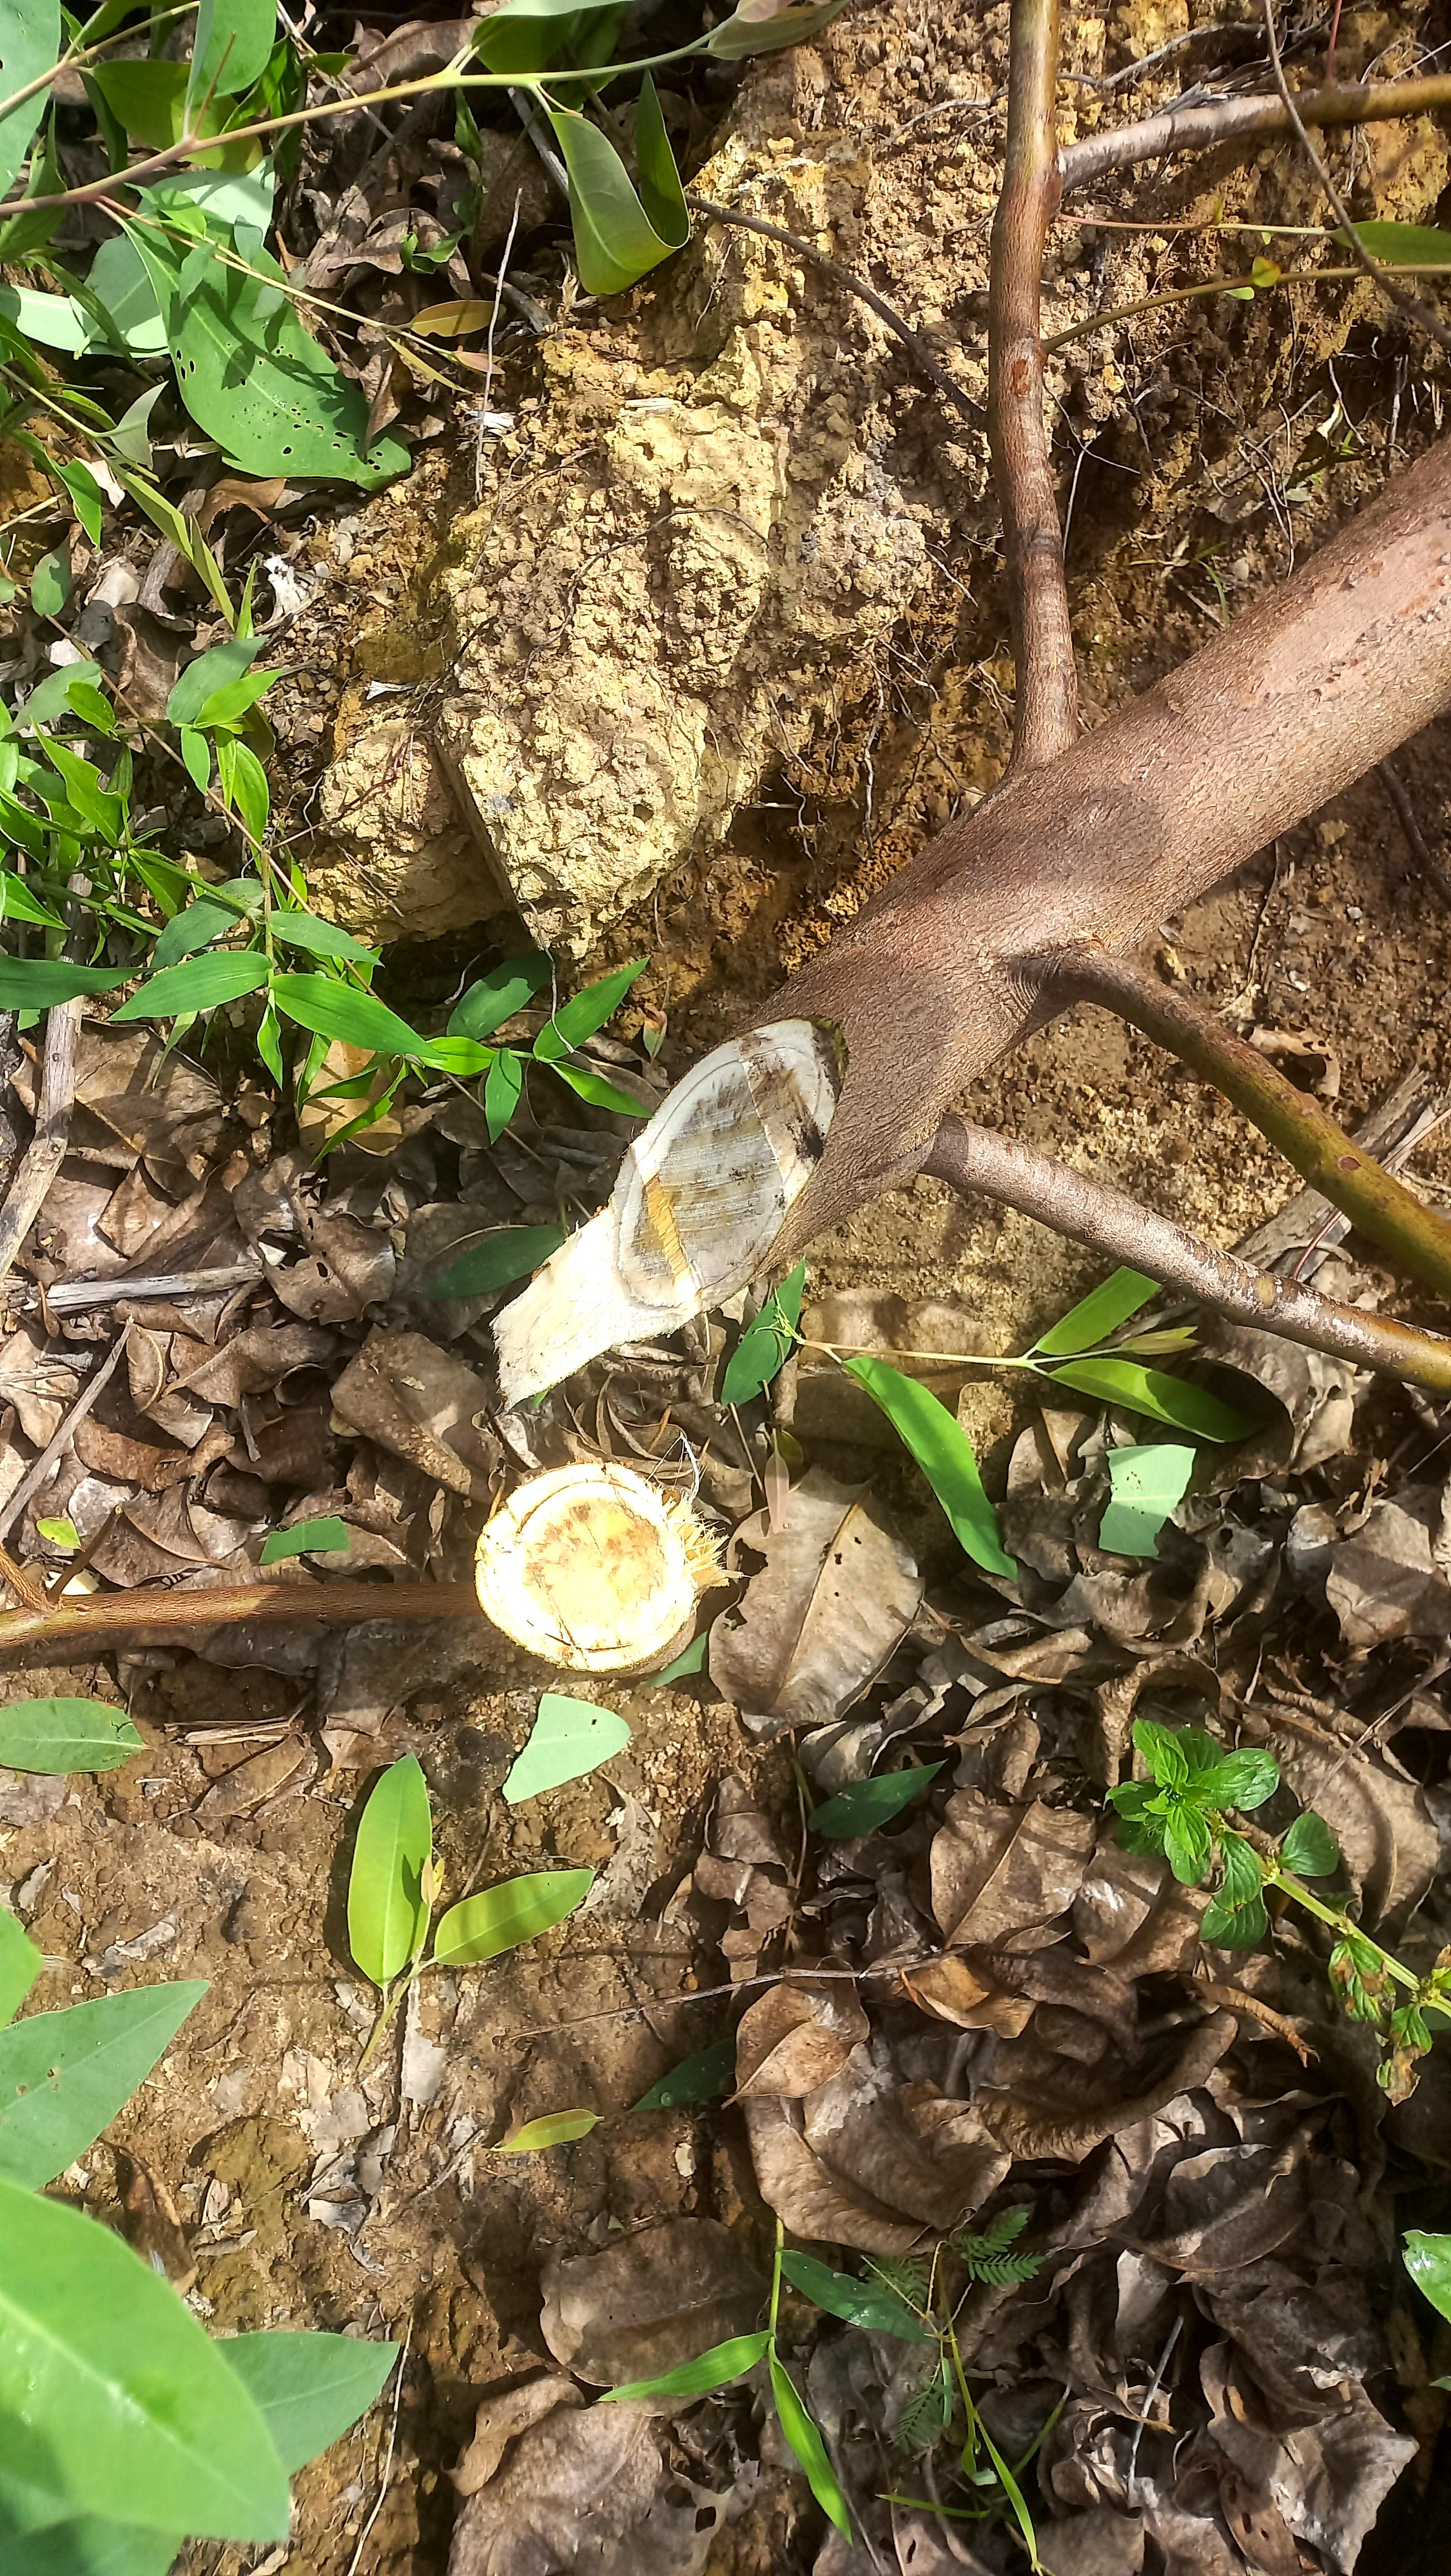Ralstonia: (621, 1058, 818, 1286)
